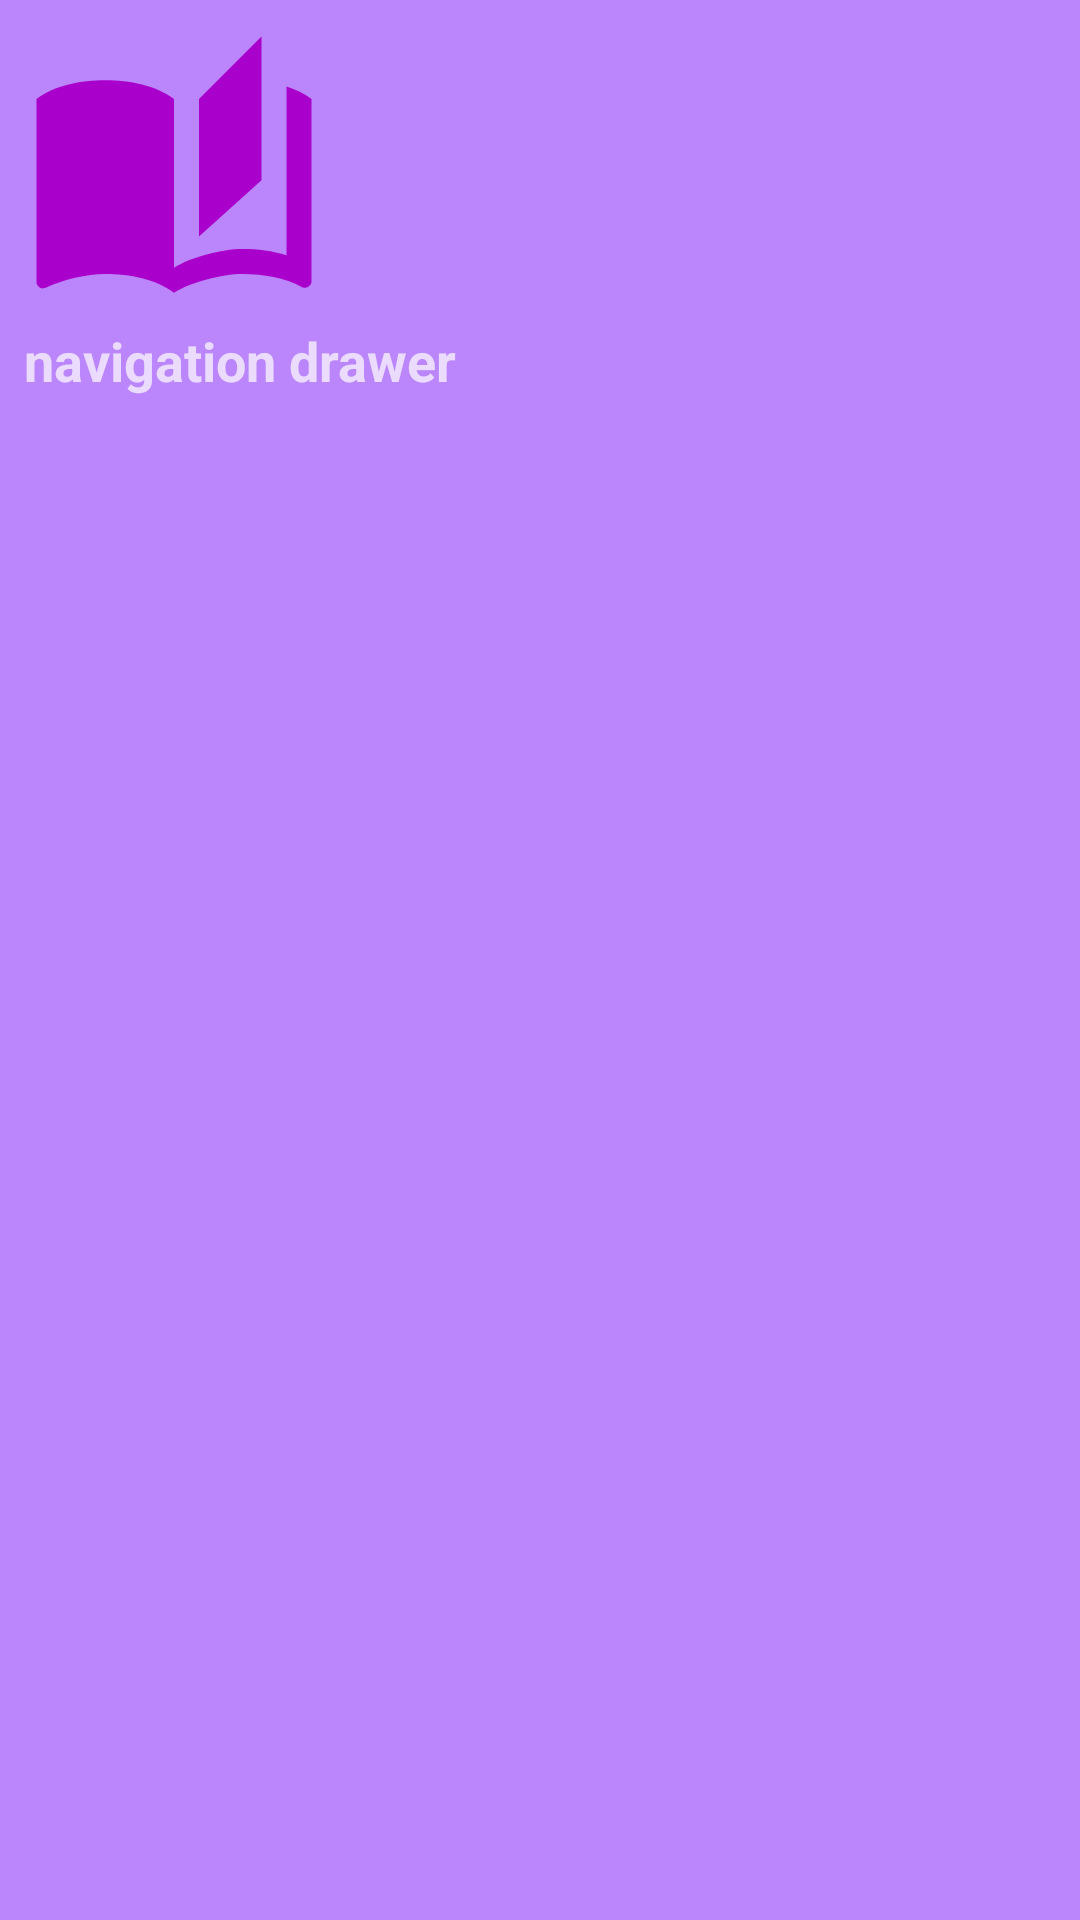

Point at icon controls on the screen. Image size 1080px x 1920px, points as (x=x, y=y).
book: (x=174, y=165)
